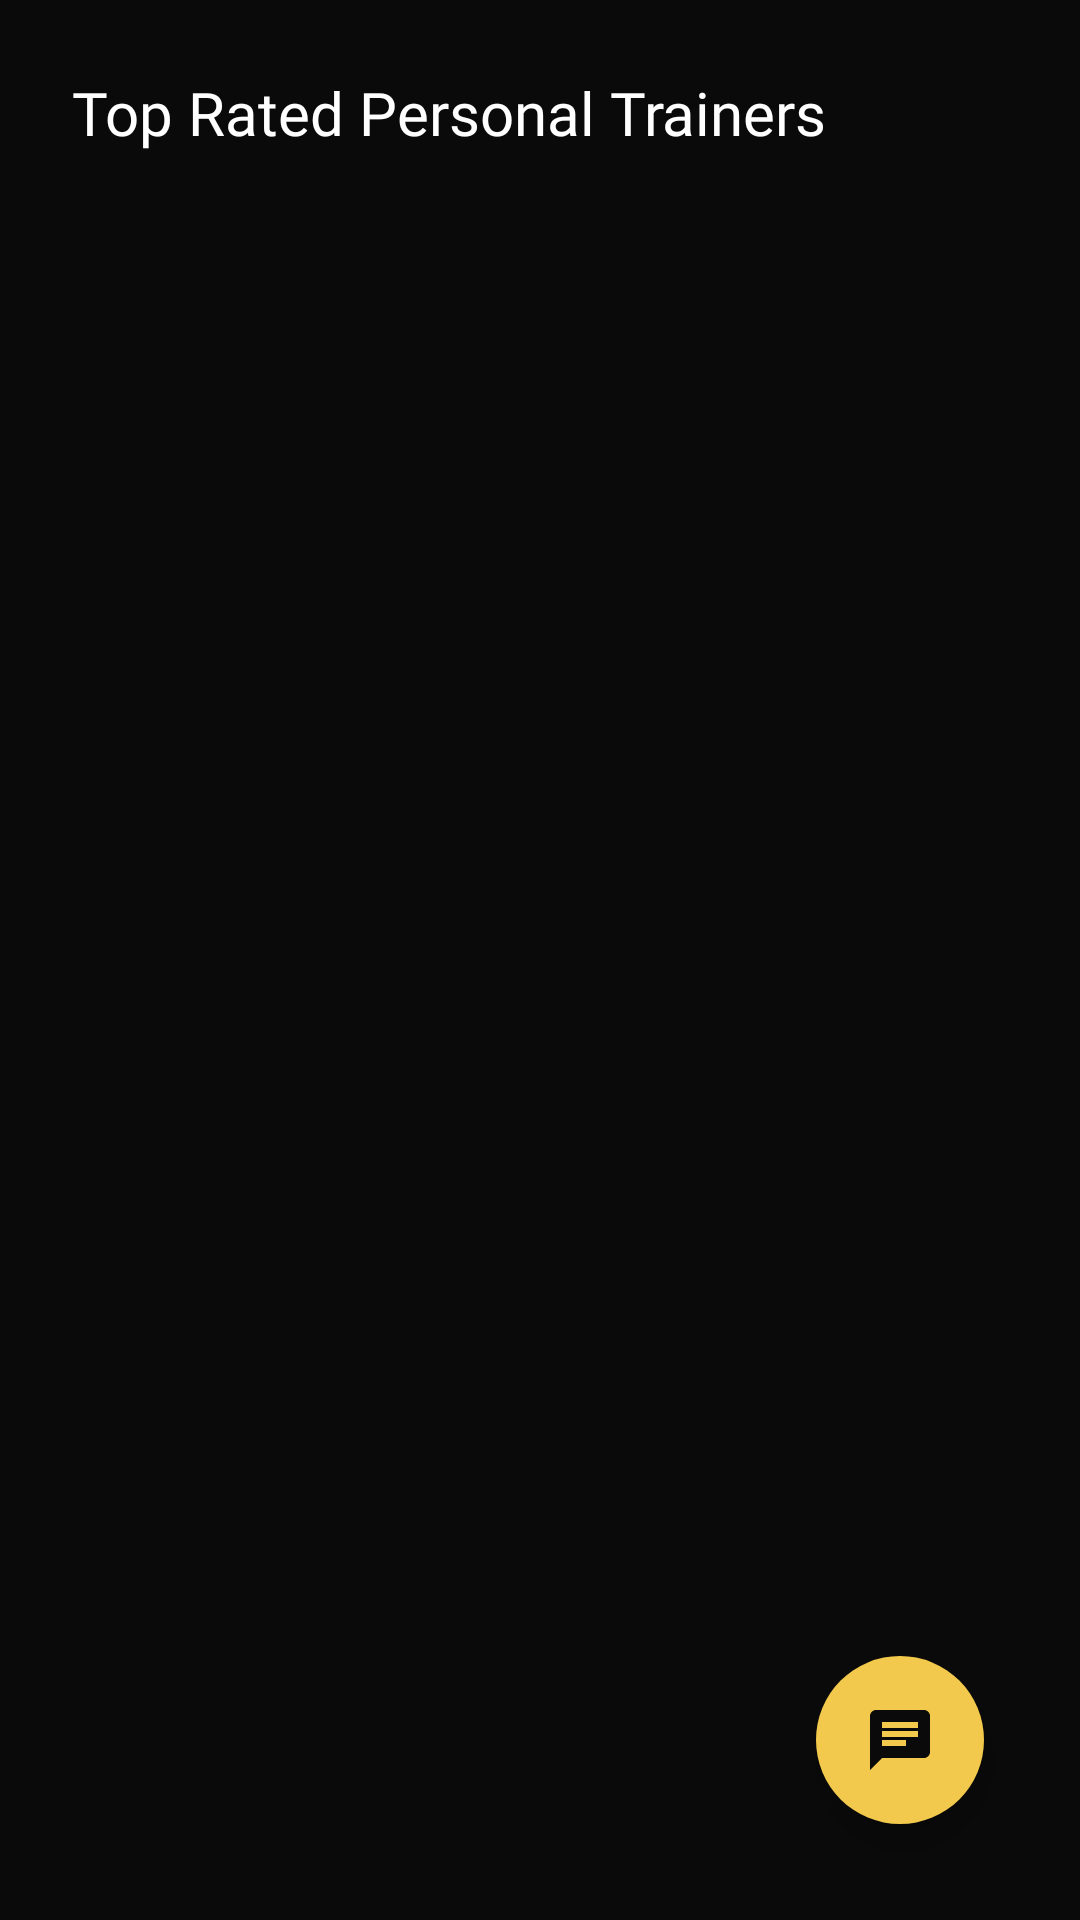

Point at icon controls on the screen. Image size 1080w x 1920h, points as (x=x, y=y).
chat a.i: (x=900, y=1740)
